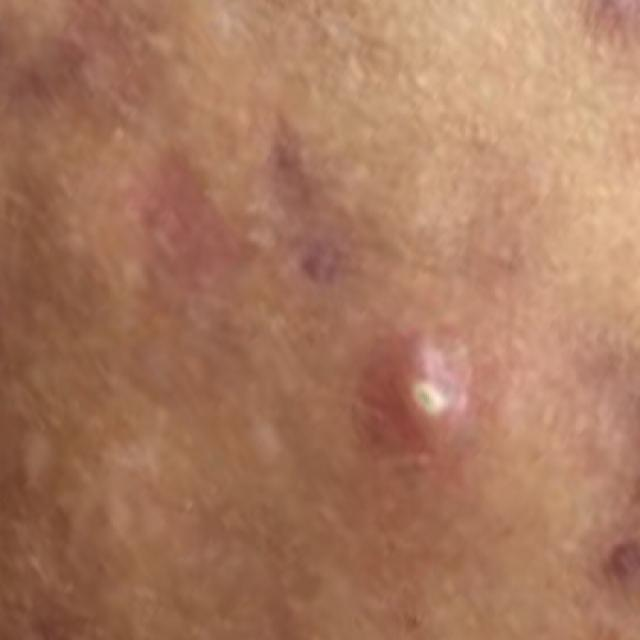acne: (339, 322, 521, 484), (0, 0, 170, 119), (258, 107, 369, 286)
